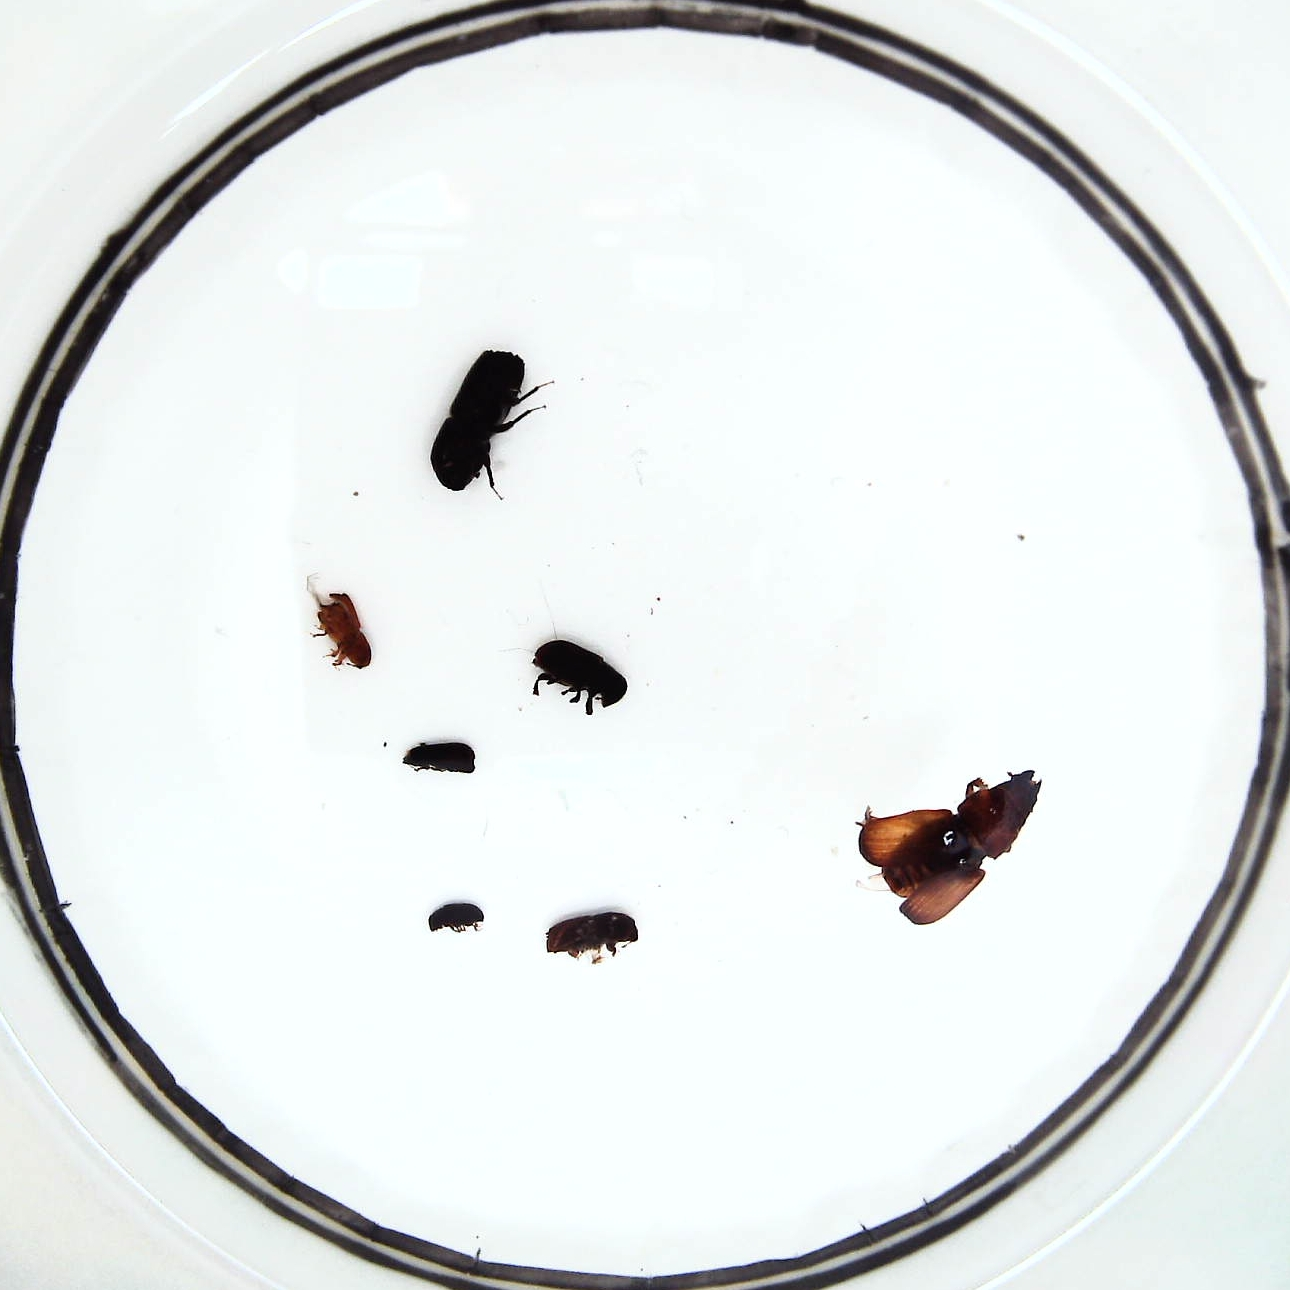Boerner: (436, 348, 530, 491)
Leconte: (859, 773, 1040, 925)
Linnaeus: (546, 908, 636, 958)
acuminatus: (315, 593, 371, 670)
armandi: (534, 641, 625, 712)
coleoptera: (403, 742, 476, 778), (426, 900, 482, 937)
